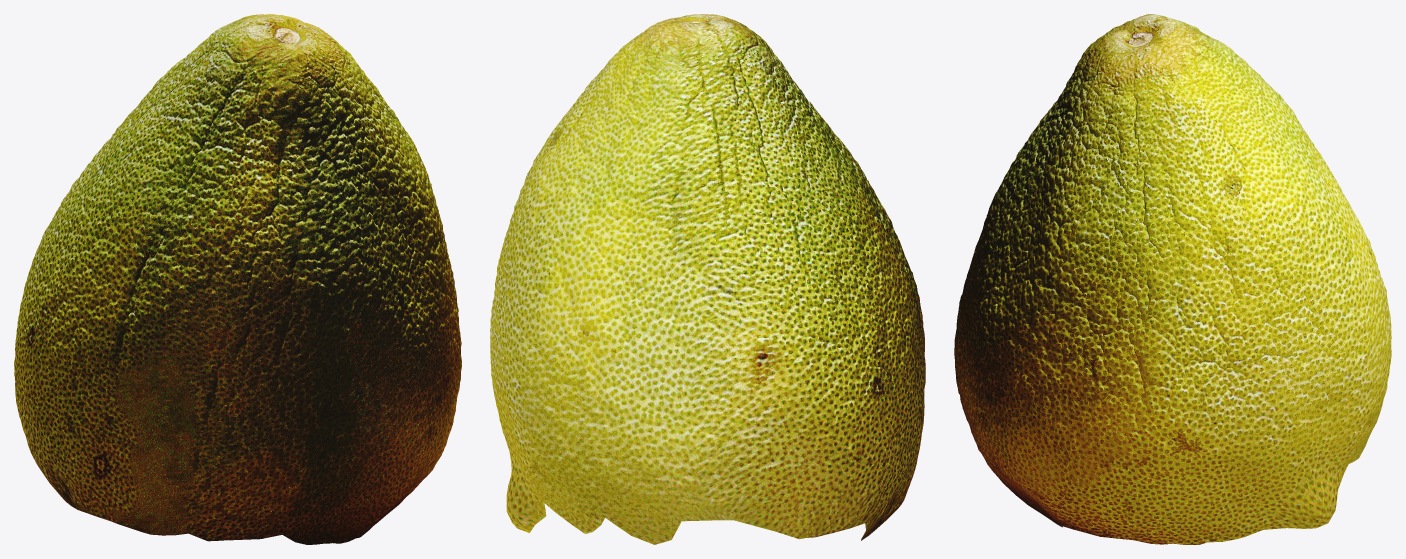
Rendered from asset.glb.
3 views of the same model, side by side, from view 1: azimuth 30°, elevation 25°; view 2: azimuth 150°, elevation 25°; view 3: azimuth 270°, elevation 25° (orthographic). The views are drawn at different scales.
Visible parts, largest first — view 1: 7c31a7f5-e41c-40d4-9e56-819e9d16e085; view 2: 7c31a7f5-e41c-40d4-9e56-819e9d16e085; view 3: 7c31a7f5-e41c-40d4-9e56-819e9d16e085.
Part boxes in pixels (x1,y1,x2,y2): 7c31a7f5-e41c-40d4-9e56-819e9d16e085: [14, 14, 461, 544]; 7c31a7f5-e41c-40d4-9e56-819e9d16e085: [490, 14, 925, 544]; 7c31a7f5-e41c-40d4-9e56-819e9d16e085: [954, 14, 1391, 544].
Size of the model in its own units: 0.0973 by 0.1132 by 0.095.
1 material, 1 textured.
